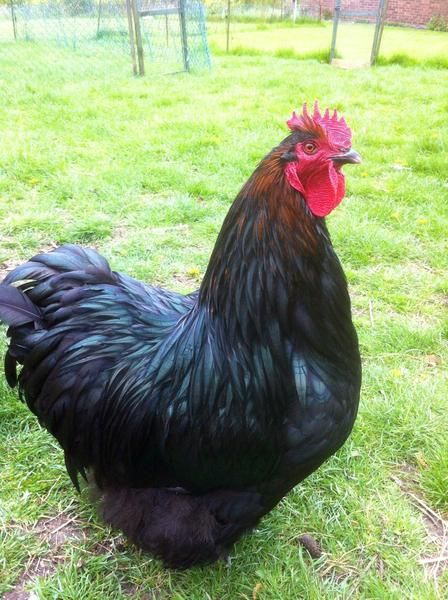Healthy: (3, 94, 367, 569)
